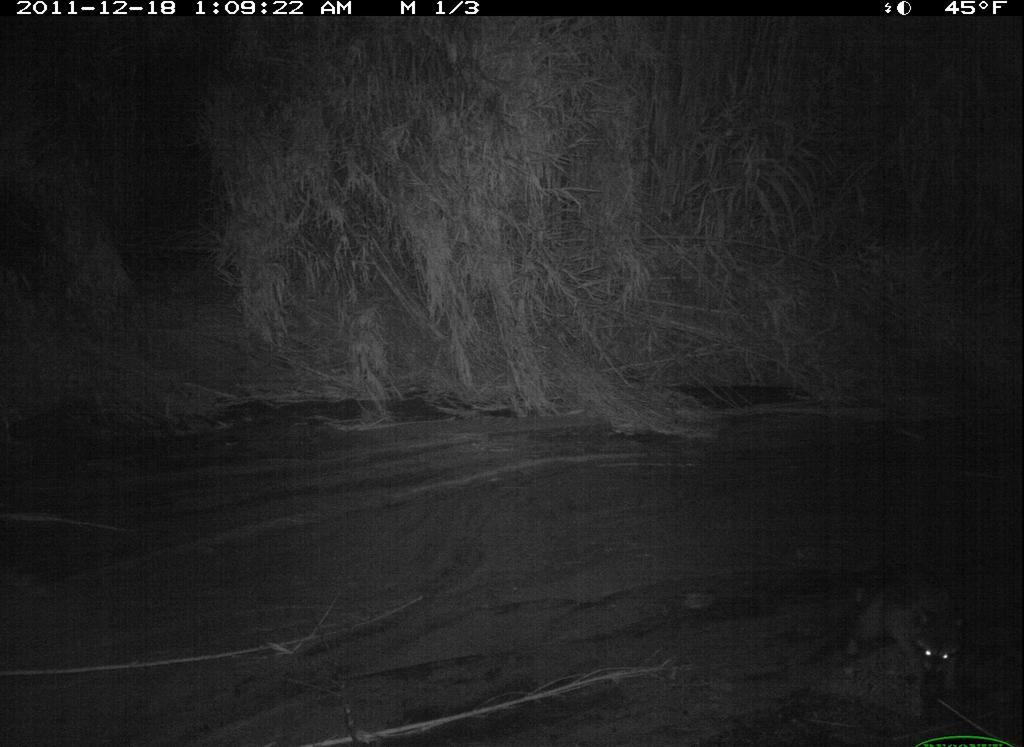raccoon: (807, 551, 981, 721)
